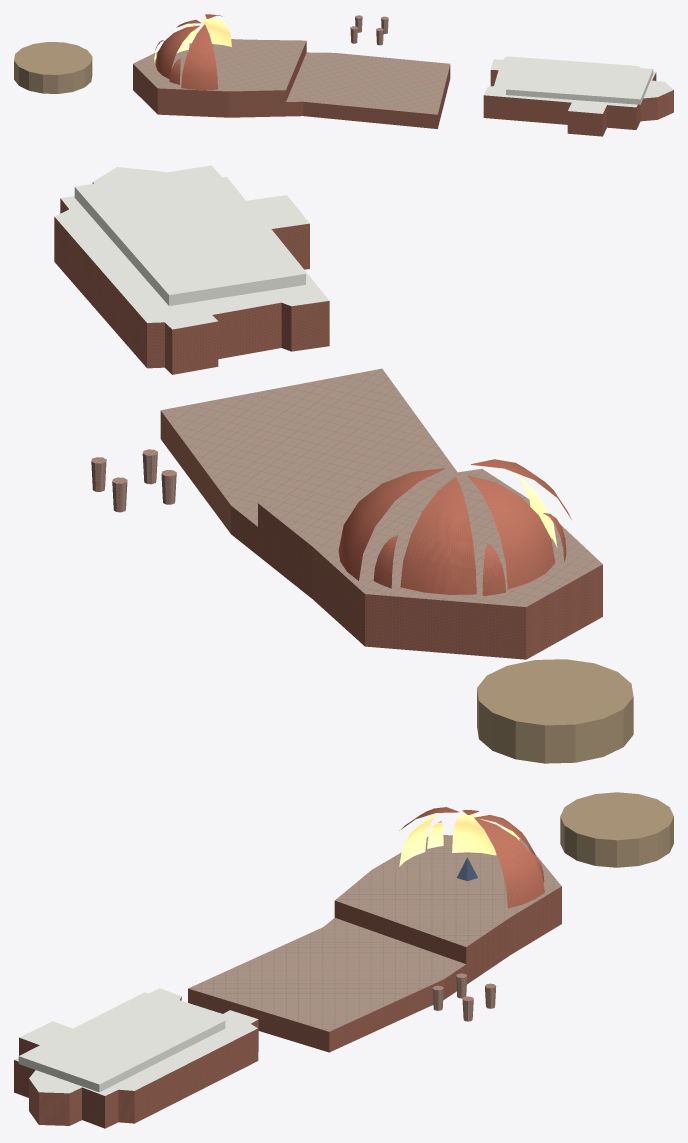
The model's file is pakistan_monument_far.glb.
3 renders of one model, top to bottom at view 1: azimuth 30°, elevation 25°; view 2: azimuth 150°, elevation 25°; view 3: azimuth 270°, elevation 25°, orthographic. The views are drawn at different scales.
Visible parts, largest first — view 1: m_deck_paving, m_museum_roof, m_podium_brick, m_museum_wall, m_overlook_stone, m_petal_brick, m_petal_mural, m_pillar_red; view 2: m_deck_paving, m_museum_roof, m_podium_brick, m_petal_brick, m_overlook_stone, m_museum_wall, m_pillar_red; view 3: m_deck_paving, m_museum_roof, m_podium_brick, m_museum_wall, m_overlook_stone, m_petal_brick, m_petal_mural, m_pillar_red.
Part boxes in pixels (x1,y1,x2,y2): m_deck_paving: (133, 39, 450, 114); m_museum_roof: (484, 56, 673, 113); m_podium_brick: (133, 41, 450, 128); m_museum_wall: (483, 70, 673, 136); m_overlook_stone: (14, 42, 92, 93); m_petal_brick: (155, 14, 222, 90); m_petal_mural: (154, 16, 231, 62); m_pillar_red: (350, 15, 388, 45); m_deck_paving: (161, 368, 602, 606); m_museum_roof: (54, 165, 329, 329); m_podium_brick: (160, 411, 602, 659); m_petal_brick: (338, 459, 571, 595); m_overlook_stone: (477, 659, 633, 763); m_museum_wall: (54, 182, 329, 374); m_pillar_red: (91, 449, 176, 512); m_deck_paving: (188, 835, 561, 1031); m_museum_roof: (14, 988, 258, 1095); m_podium_brick: (188, 886, 561, 1052); m_museum_wall: (14, 996, 258, 1128); m_overlook_stone: (560, 792, 673, 867); m_petal_brick: (399, 807, 544, 908); m_petal_mural: (399, 813, 519, 866); m_pillar_red: (432, 973, 496, 1021).
Size of the model in its own units: 201 by 29 by 174.
9 materials, 6 textured.
